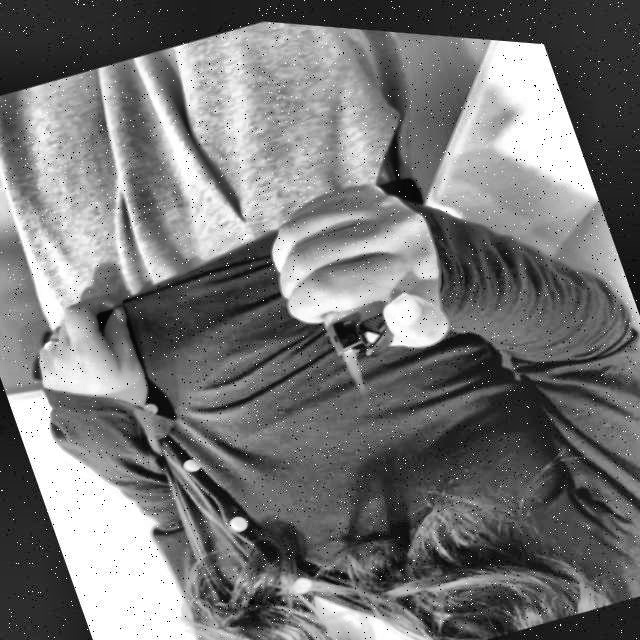Fire: (338, 338, 366, 380)
